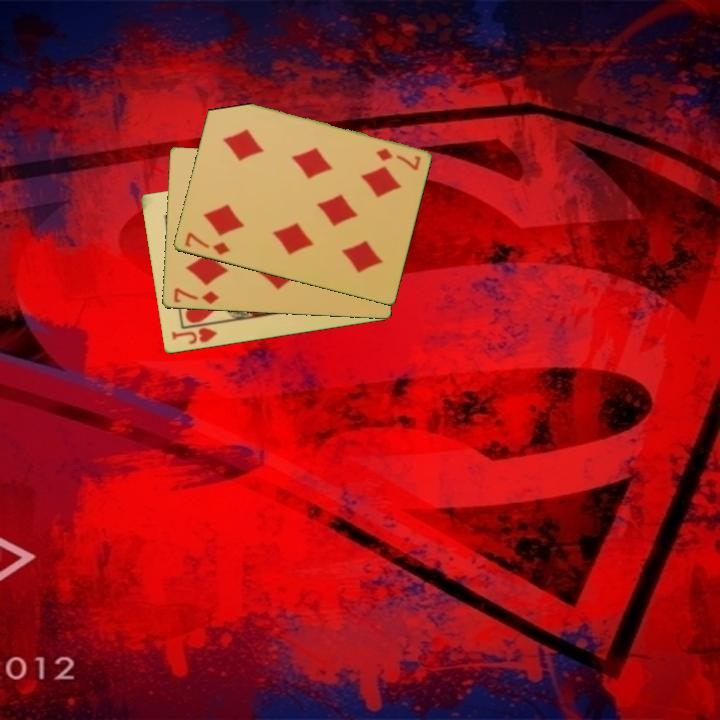7d: (181, 229, 233, 258), (372, 145, 423, 173), (170, 285, 221, 307)
Jh: (168, 319, 222, 348)
